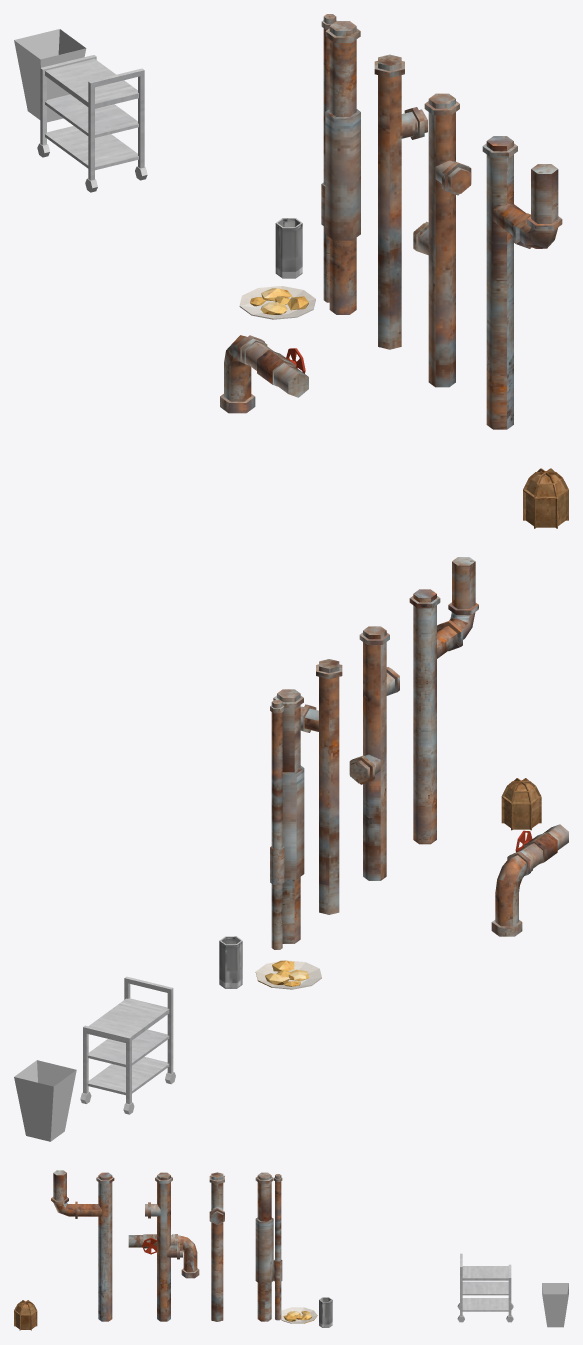
File: propy2.fbx
The picture shows the model from 3 angles, top to bottom: view 1: azimuth 30°, elevation 25°; view 2: azimuth 150°, elevation 25°; view 3: azimuth 270°, elevation 25°; orthographic projection. The views are drawn at different scales.
Parts seen in each view (by area): view 1: Cylinder.005, Cube.002, Cylinder.002, Cylinder.004, Cylinder.003, Cube.003, Cylinder.006, Cylinder.007, Circle, Cylinder.009, Cylinder.001, Cylinder; view 2: Cylinder.005, Cube.002, Cylinder.004, Cylinder.003, Cylinder.002, Cube.003, Cylinder.001, Cylinder.009, Cylinder.006, Circle, Cylinder.007, Cylinder; view 3: Cylinder.005, Cylinder.002, Cube.002, Cylinder.004, Cylinder.003, Cylinder.001, Cube.003, Cylinder.009, Cylinder.006, Circle, Cylinder.007, Cylinder.
Boxes of the visible parts, x1=… form: Cylinder.005: x1=482, y1=136, x2=562, y2=429; Cube.002: x1=37, y1=55, x2=147, y2=192; Cylinder.002: x1=325, y1=21, x2=360, y2=314; Cylinder.004: x1=413, y1=93, x2=471, y2=387; Cylinder.003: x1=374, y1=54, x2=427, y2=349; Cube.003: x1=14, y1=29, x2=86, y2=122; Cylinder.006: x1=523, y1=468, x2=568, y2=528; Cylinder.007: x1=241, y1=338, x2=308, y2=397; Circle: x1=239, y1=286, x2=315, y2=319; Cylinder.009: x1=220, y1=335, x2=264, y2=413; Cylinder.001: x1=321, y1=14, x2=336, y2=302; Cylinder: x1=275, y1=218, x2=302, y2=278; Cylinder.005: x1=409, y1=557, x2=478, y2=844; Cube.002: x1=80, y1=976, x2=175, y2=1114; Cylinder.004: x1=349, y1=626, x2=399, y2=880; Cylinder.003: x1=300, y1=659, x2=342, y2=914; Cylinder.002: x1=273, y1=689, x2=304, y2=943; Cube.003: x1=14, y1=1060, x2=76, y2=1141; Cylinder.001: x1=270, y1=700, x2=284, y2=949; Cylinder.009: x1=491, y1=851, x2=530, y2=936; Cylinder.006: x1=501, y1=778, x2=541, y2=830; Circle: x1=255, y1=960, x2=321, y2=989; Cylinder.007: x1=513, y1=824, x2=568, y2=871; Cylinder: x1=219, y1=936, x2=242, y2=988; Cylinder.005: x1=51, y1=1170, x2=114, y2=1321; Cylinder.002: x1=255, y1=1172, x2=273, y2=1321; Cube.002: x1=457, y1=1253, x2=513, y2=1322; Cylinder.004: x1=145, y1=1172, x2=182, y2=1321; Cylinder.003: x1=209, y1=1172, x2=224, y2=1321; Cylinder.001: x1=273, y1=1174, x2=282, y2=1320; Cube.003: x1=542, y1=1283, x2=568, y2=1327; Cylinder.009: x1=175, y1=1234, x2=199, y2=1278; Cylinder.006: x1=14, y1=1300, x2=37, y2=1330; Circle: x1=281, y1=1307, x2=317, y2=1323; Cylinder.007: x1=128, y1=1234, x2=174, y2=1254; Cylinder: x1=319, y1=1297, x2=332, y2=1327.
Bounding box in the file's own units: 98.45 × 134 × 416.
